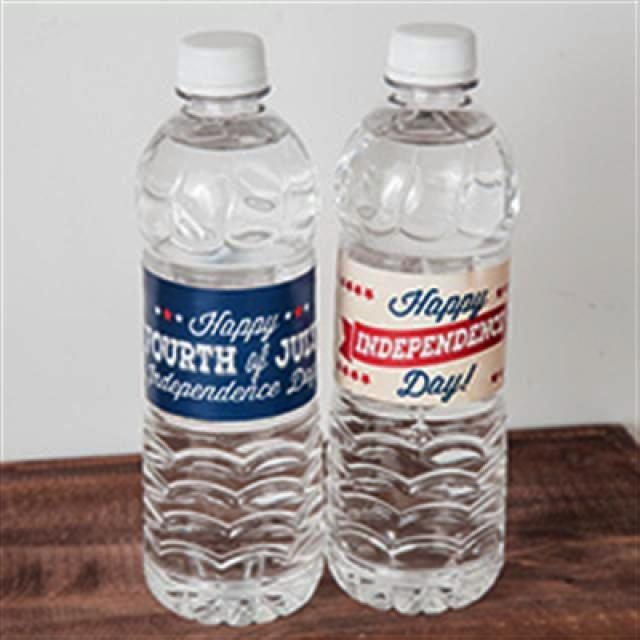bottle: (326, 12, 545, 616), (134, 30, 325, 628)
